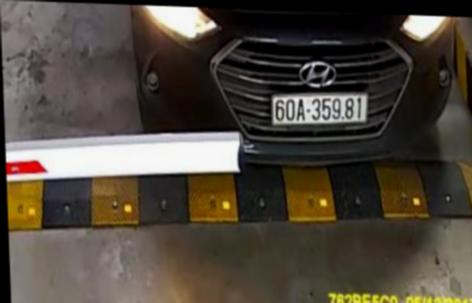License_Plate: (268, 85, 372, 131)
